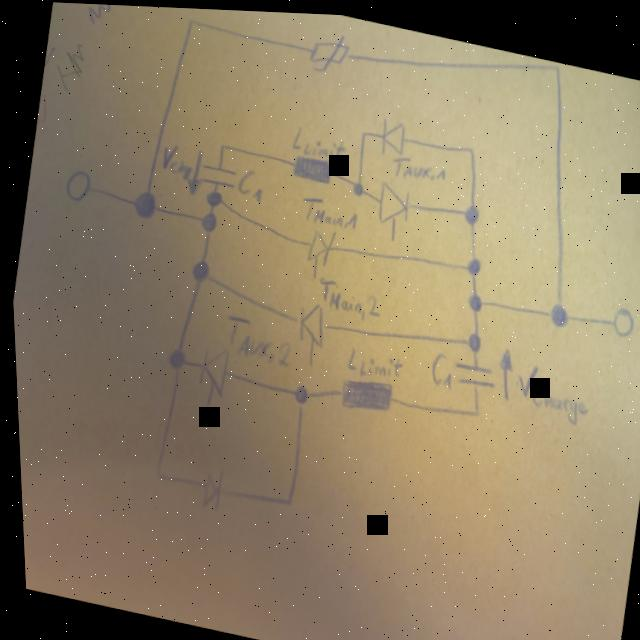capacitor: (446, 352, 497, 387), (195, 157, 237, 186)
diode: (373, 109, 407, 154), (190, 462, 220, 512)
inductor: (332, 367, 393, 414), (286, 147, 333, 182)
junction: (126, 183, 157, 220), (541, 290, 569, 322), (185, 252, 209, 282), (161, 341, 184, 371), (286, 377, 307, 407), (193, 205, 216, 232), (457, 194, 479, 222), (199, 183, 222, 206), (459, 323, 480, 348), (461, 285, 481, 308), (460, 249, 479, 272), (347, 172, 363, 193), (147, 464, 158, 477), (277, 491, 288, 504), (467, 400, 477, 414), (463, 138, 474, 149), (551, 55, 561, 66), (185, 11, 195, 22), (356, 123, 366, 133), (216, 137, 223, 146)
terminal: (58, 161, 92, 202), (604, 296, 634, 333)
text: (506, 353, 590, 420), (214, 307, 293, 365), (309, 269, 383, 320), (339, 339, 401, 380), (295, 188, 358, 228), (286, 118, 347, 159), (385, 146, 446, 185), (155, 137, 194, 179), (230, 160, 266, 202), (421, 342, 453, 386)
thyristor: (282, 293, 328, 358), (188, 339, 228, 402), (368, 173, 412, 229), (299, 219, 335, 272)
